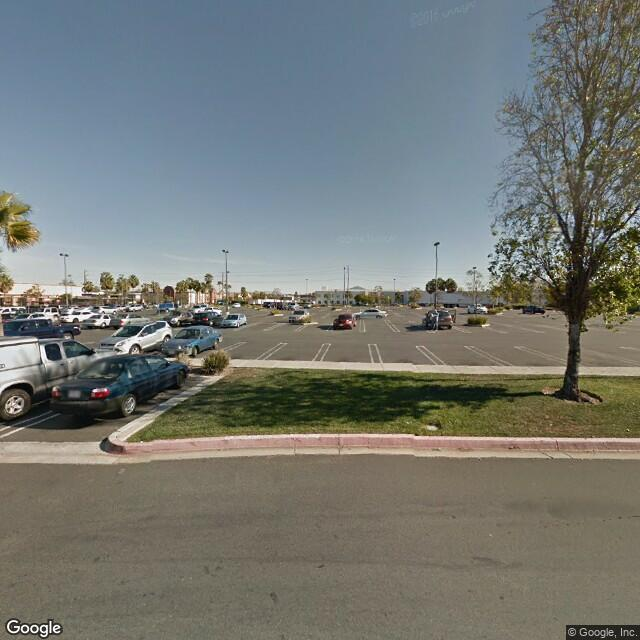litter: (423, 422, 442, 432), (138, 437, 146, 445), (623, 424, 632, 431)
